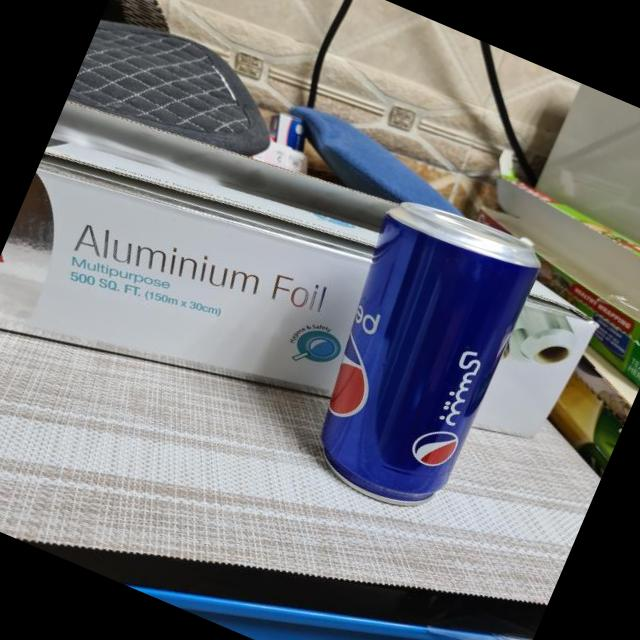Kaleng: (278, 182, 550, 524)
